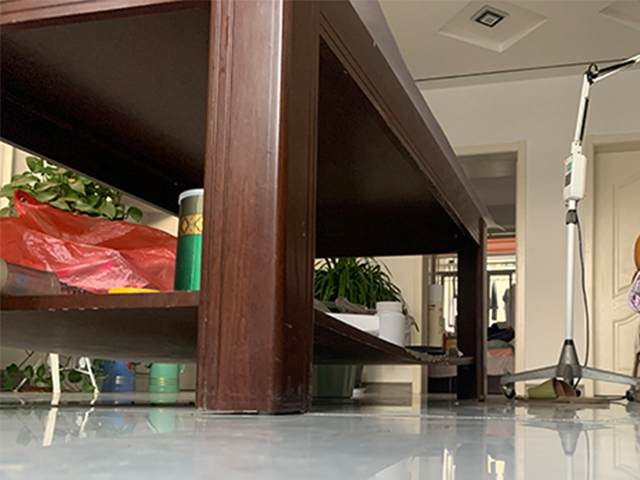slippers: (521, 377, 609, 405)
table: (1, 1, 492, 416)
